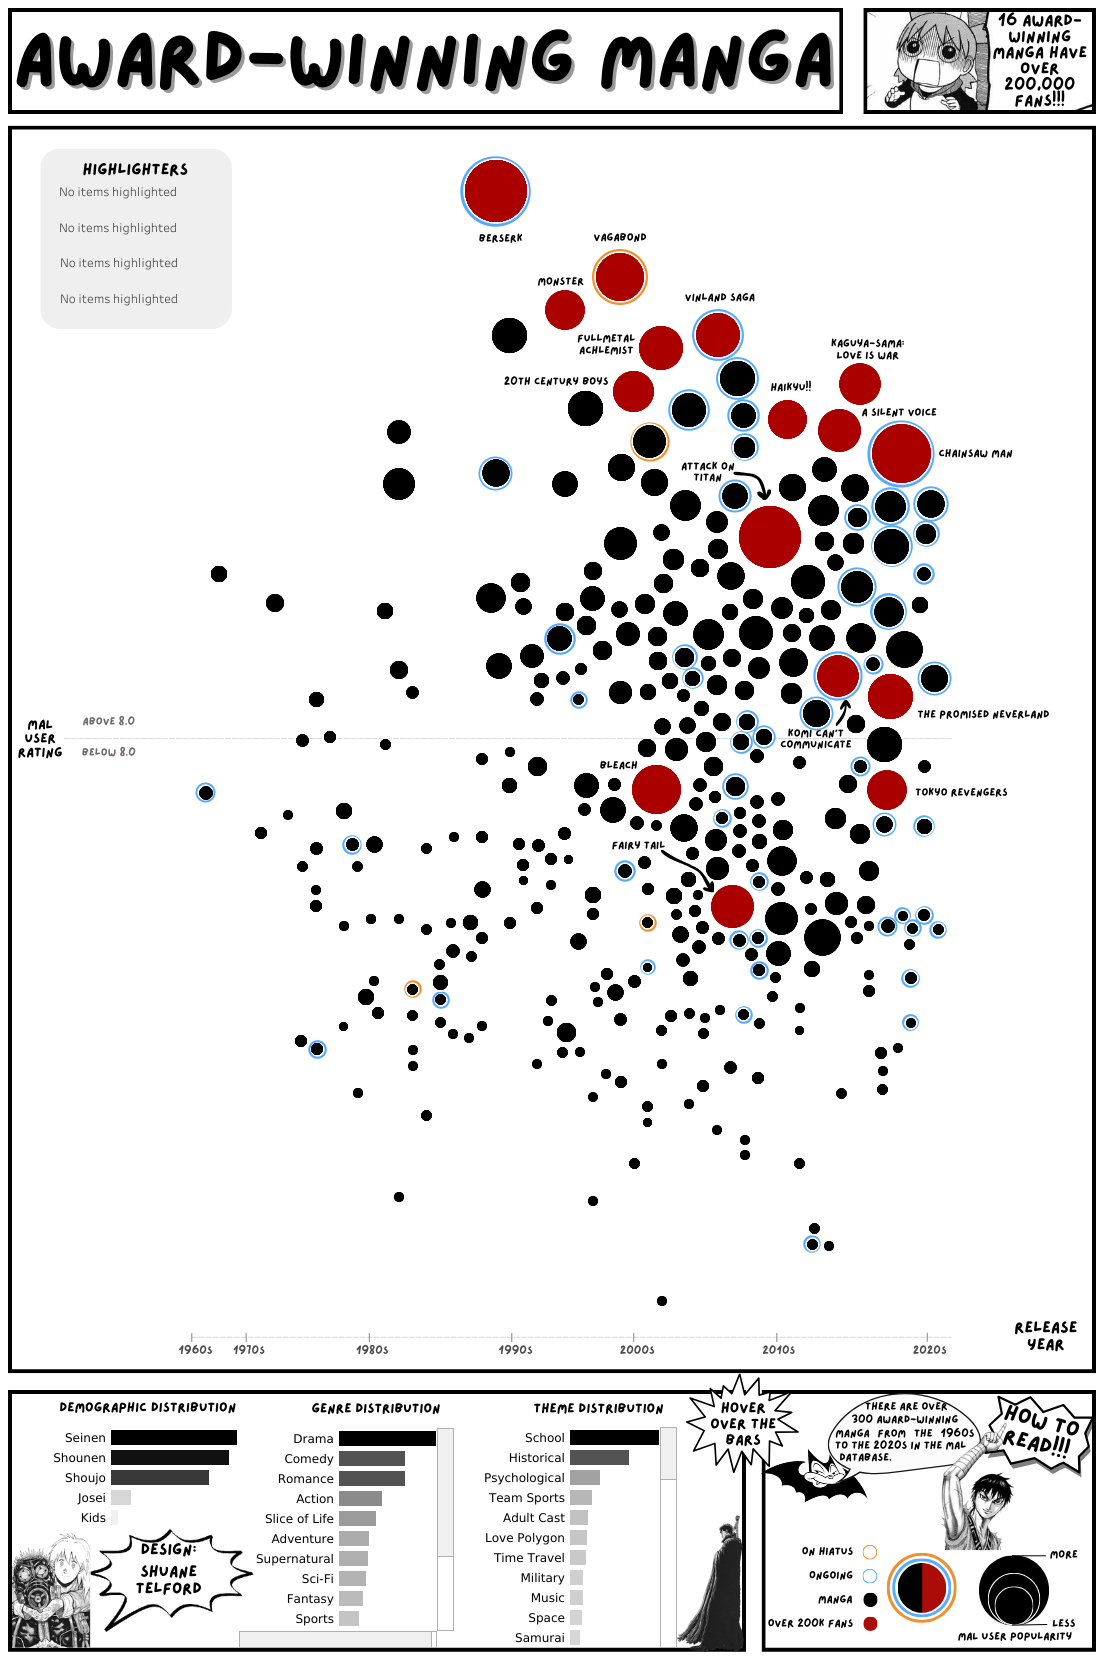

Layout of this report page (visuals, bound fields, positions):
{"tool":"tableau","page":{"name":"Manga Beeswarm","canvas":[1100,1663],"ordinal":0},"visuals":[{"type":"image","param":"Image/17 Manga have over 200,000 Mal fans!!! (37).png","box":[0,0,1100,1663]},{"type":"worksheet","title":"Bottom Layer","mark":"Circle","box":[4,60,1092,1483]},{"type":"worksheet","title":"Middle Layer","mark":"Circle","box":[4,60,1092,1483]},{"type":"worksheet","title":"Top Layer","mark":"Circle","box":[4,60,1092,1483]},{"type":"highlighter","title":"Top Layer","param":"[federated.17i195s1ja9g5i156i7320cqpu47].[none:FINAL TITLES:nk]","box":[57,182,161,27]},{"type":"highlighter","title":"Top Layer","param":"[federated.17i195s1ja9g5i156i7320cqpu47].[none:Demographic:nk]","box":[57,218,160,26]},{"type":"highlighter","title":"Top Layer","param":"[federated.17i195s1ja9g5i156i7320cqpu47].[none:Genre:nk]","box":[58,253,158,26]},{"type":"highlighter","title":"Top Layer","param":"[federated.17i195s1ja9g5i156i7320cqpu47].[none:Theme:nk]","box":[58,289,157,24]},{"type":"worksheet","title":"Demographic","mark":"Bar","rows":["Demographic"],"cols":["Demographic"],"box":[31,1427,206,219]},{"type":"worksheet","title":"Theme","mark":"Automatic","rows":["Theme"],"cols":["Theme"],"box":[458,1427,219,220]},{"type":"worksheet","title":"Genre","mark":"Automatic","rows":["Genre"],"cols":["Genre"],"box":[239,1428,215,220]}]}

Visuals, with their boxes in screenshot pixels (x1, y1, x2, y2), scaled from the page's 1100x1663 canvas onto the 1099x1662 screenshot:
image: bbox=(0, 0, 1098, 1661)
"Bottom Layer" worksheet (Circle marks): bbox=(4, 60, 1095, 1542)
"Middle Layer" worksheet (Circle marks): bbox=(4, 60, 1095, 1542)
"Top Layer" worksheet (Circle marks): bbox=(4, 60, 1095, 1542)
"Top Layer" highlighter: bbox=(57, 182, 218, 209)
"Top Layer" highlighter: bbox=(57, 218, 217, 244)
"Top Layer" highlighter: bbox=(58, 253, 216, 279)
"Top Layer" highlighter: bbox=(58, 289, 215, 313)
"Demographic" worksheet (Bar marks): bbox=(31, 1426, 237, 1645)
"Theme" worksheet: bbox=(458, 1426, 676, 1646)
"Genre" worksheet: bbox=(239, 1427, 454, 1647)
